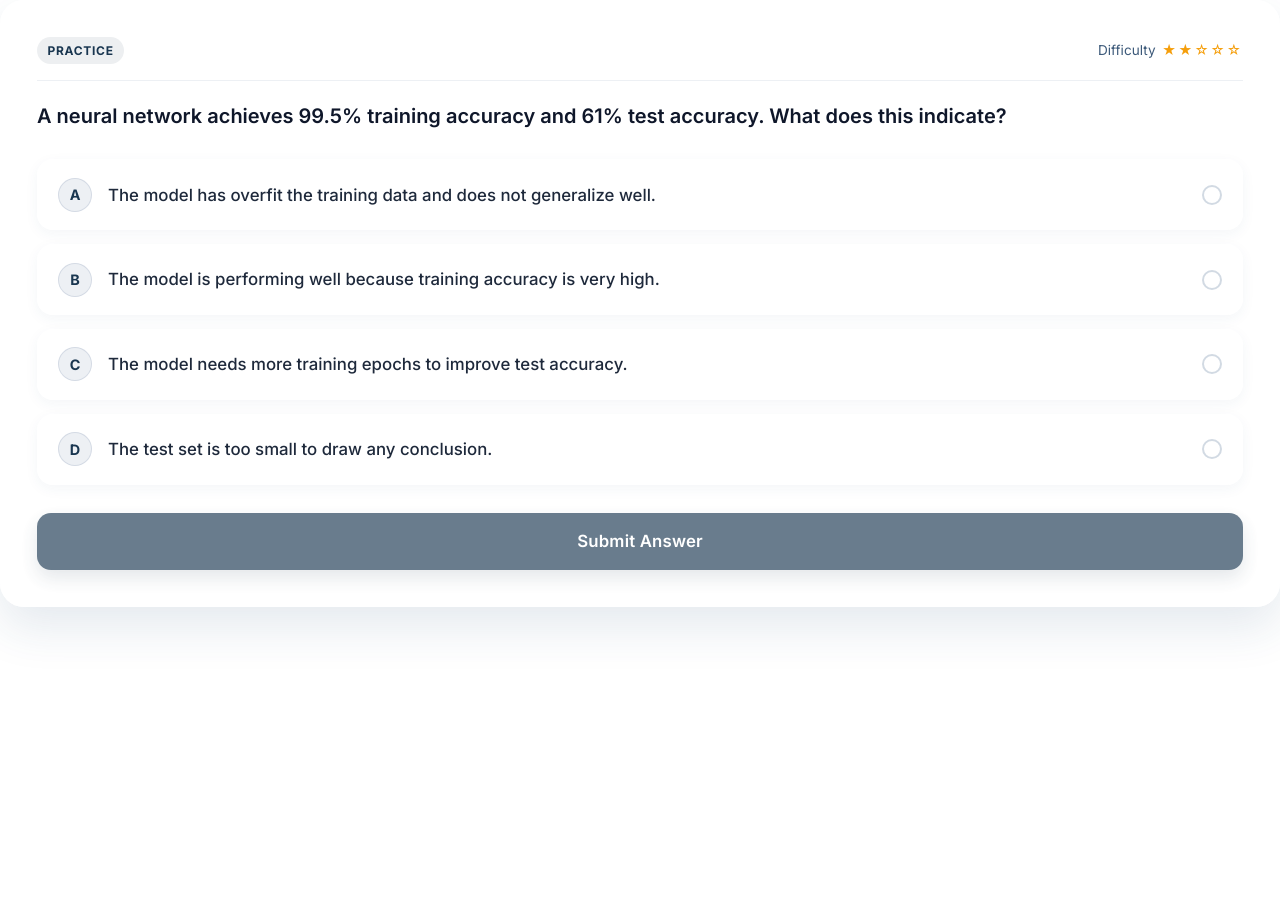
Module 5: Answer Submission Component Tests › renders wrong result banner and option styling on wrong answer, allowing Try Again
This screenshot has width=1280, height=900.
Select option 2 (wrong)
Click the radio button with aria-label "Option B: The model is performing well because training accu": (640, 280) [37,244,1243,315]
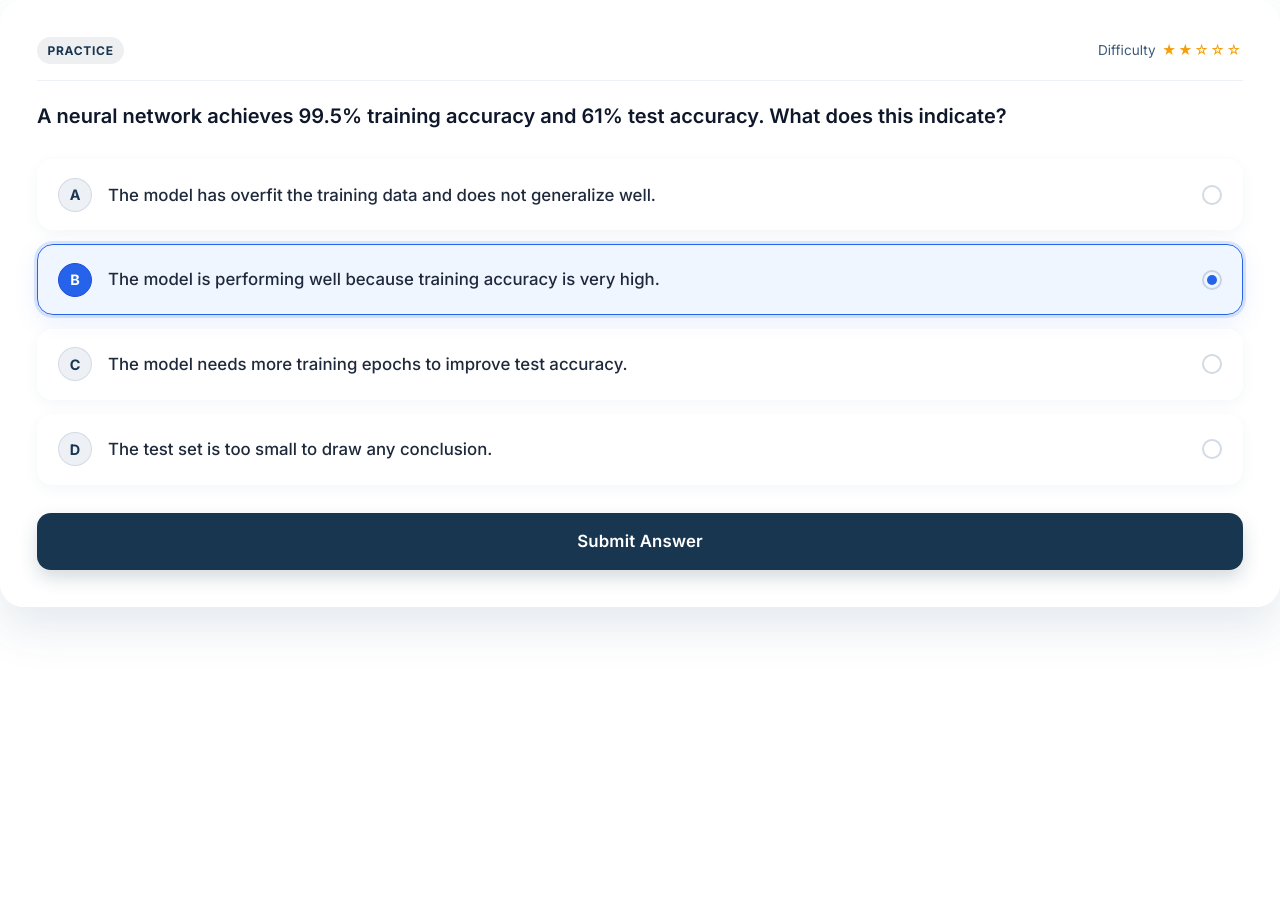
Click the button "Submit Answer": (640, 541) [37,513,1243,570]
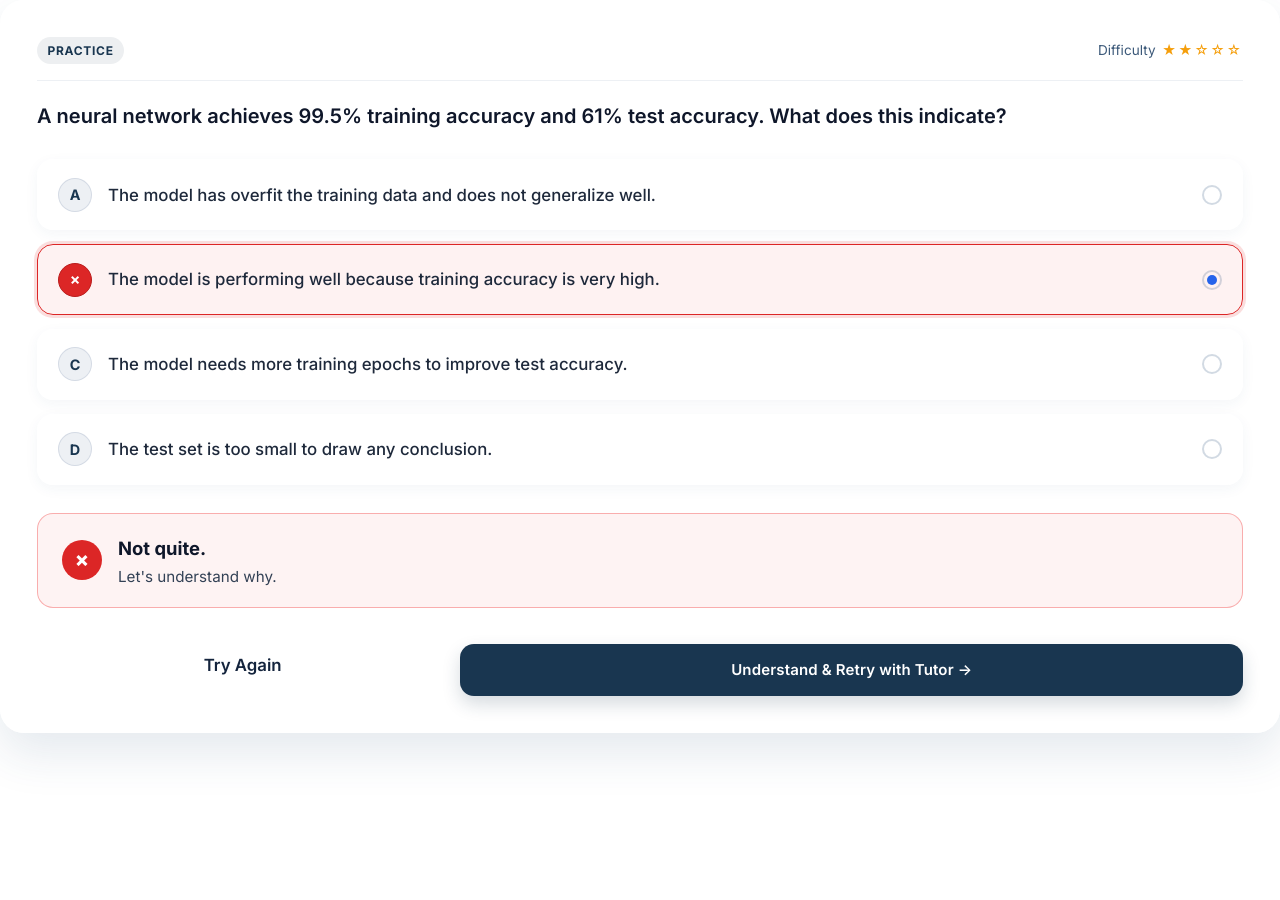
Check: the message "✗ Not quite. Let's understand why." is shown, box [37,513,1243,608]
Check: the heading "Not quite." is shown, box [118,537,206,559]
Check: the text "Let's understand why." is shown, box [118,566,277,587]
Click the button "Try Again": (243, 666) [37,636,448,696]
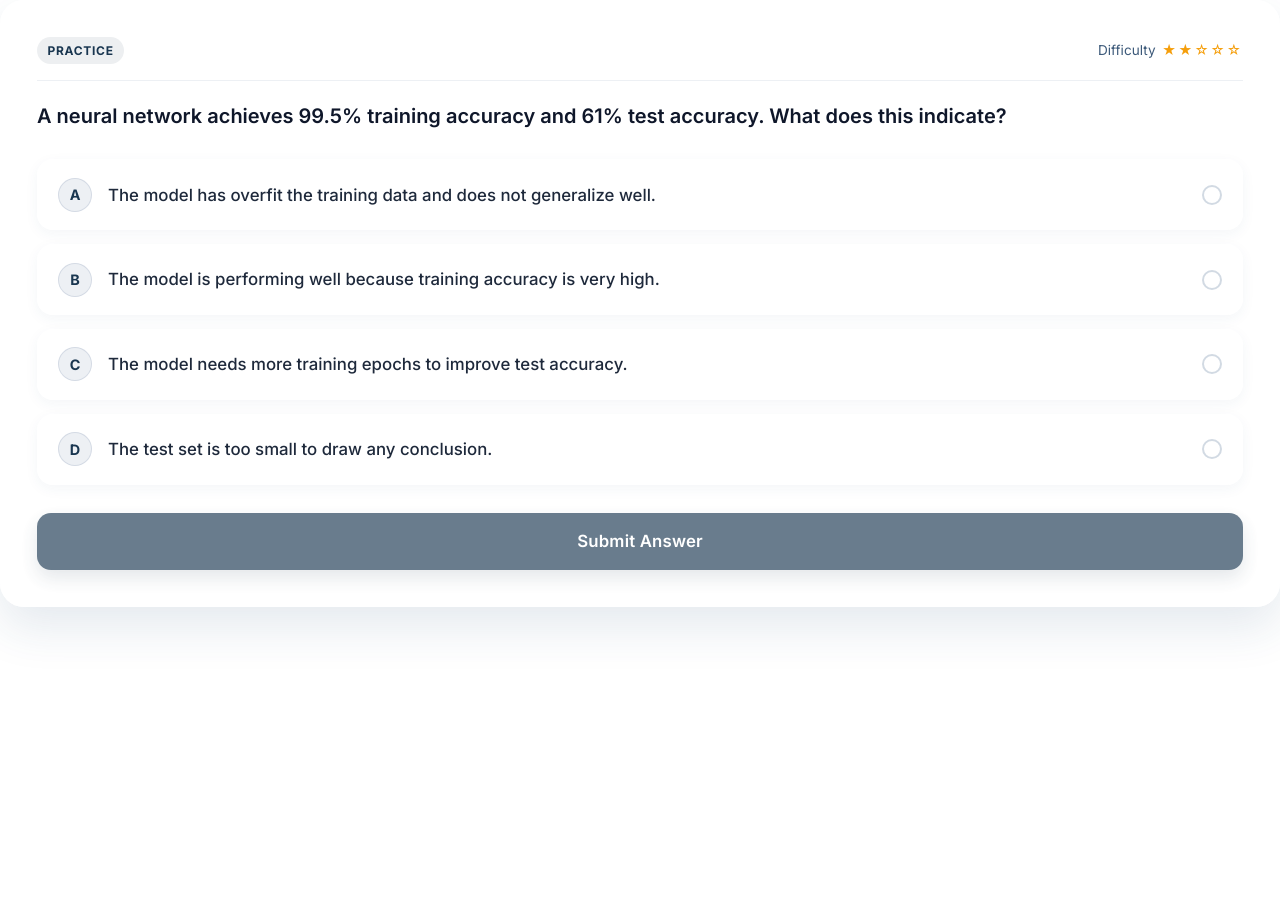
Check: the message "✗ Not quite. Let's understand why." is gone
Check: the button "Submit Answer" is disabled, box [37,513,1243,570]
